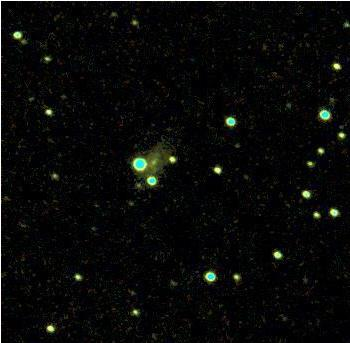star: (101, 1, 131, 31)
